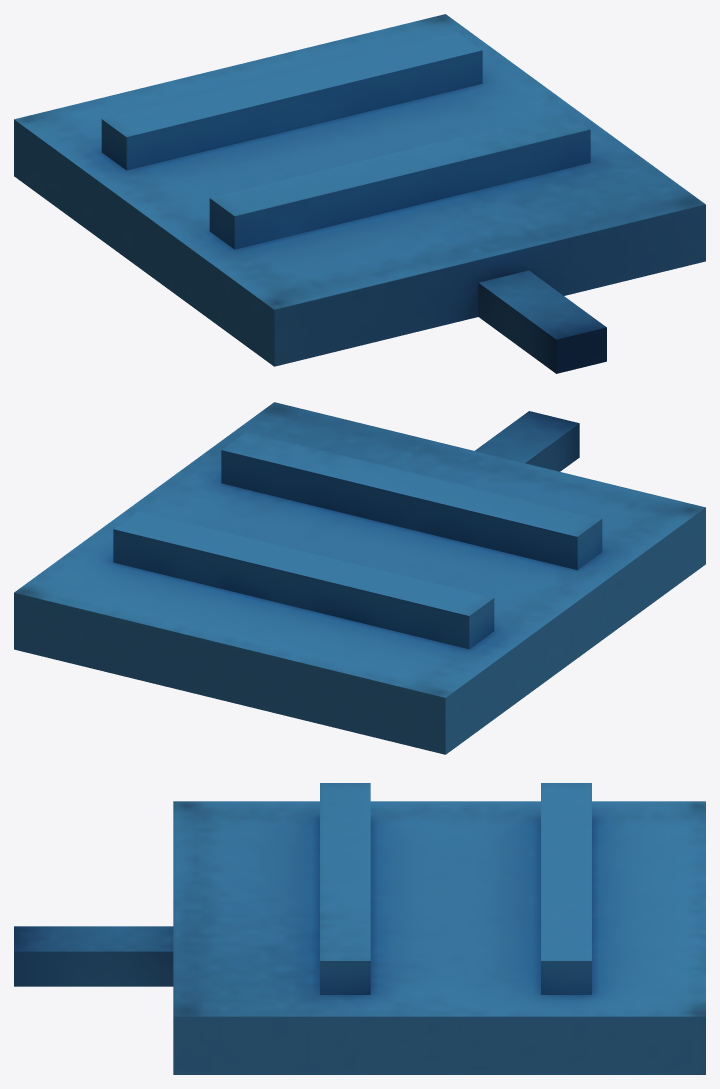
The model's file is machine.serva.158.obj.
3 views of the same model, one above another, from view 1: azimuth 30°, elevation 25°; view 2: azimuth 150°, elevation 25°; view 3: azimuth 270°, elevation 25° (orthographic). The views are drawn at different scales.
Visible parts, largest first — view 1: ____01; view 2: ____01; view 3: ____01.
Part boxes in pixels (bbox=[...]): ____01: bbox=[14, 14, 705, 373]; ____01: bbox=[14, 402, 705, 754]; ____01: bbox=[14, 783, 705, 1074].
Size of the model in its own units: 74.79 by 14.93 by 101.
